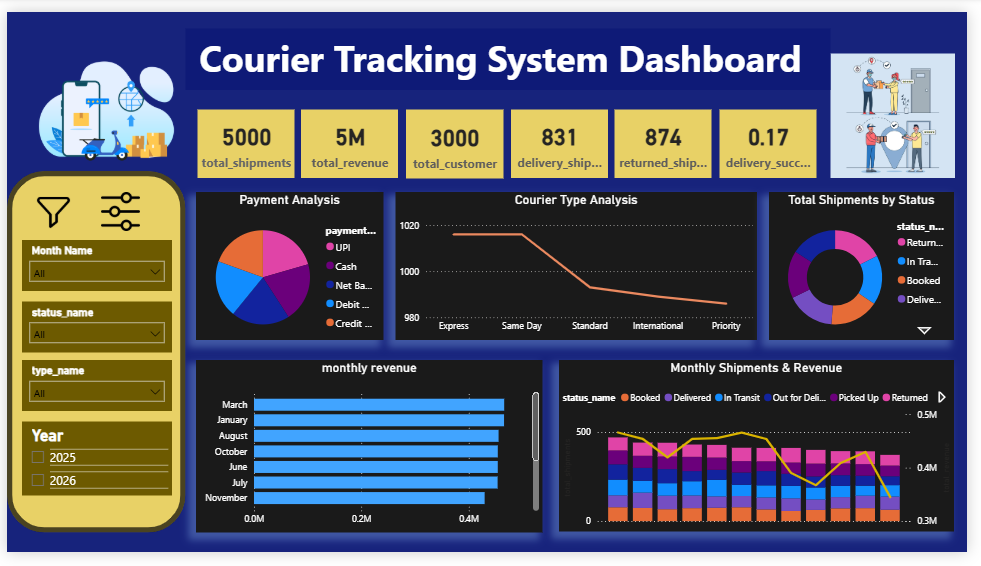

What the dashboard file says about the page in this screenshot:
{"tool":"powerbi","page":{"name":"dashboard","canvas":[1280,720],"ordinal":0},"visuals":[{"type":"card","fields":{"Values":["measure_table.total_revenue"]},"box":[392.5,129.6,129.6,91.1],"z":0},{"type":"card","fields":{"Values":["measure_table.total_customer"]},"box":[531.7,130,130,92],"z":1000},{"type":"card","fields":{"Values":["measure_table.delivery_shipments"]},"box":[671.4,130,129.6,91.1],"z":2000},{"type":"card","fields":{"Values":["measure_table.returned_shipments"]},"box":[810.7,130,129.6,91.1],"z":3000},{"type":"card","fields":{"Values":["measure_table.delivery_success%"]},"box":[950,130,129.6,91.1],"z":4000},{"type":"clusteredBarChart","title":"monthly revenue","fields":{"Category":["Calendar.Month Name"],"Y":["measure_table.total_revenue"]},"box":[252,464,462,230],"z":5000},{"type":"lineChart","title":"Courier Type Analysis","fields":{"Category":["courier_type.type_name"],"Y":["measure_table.total_shipments"]},"box":[518.5,240.2,482,197.2],"z":6000},{"type":"donutChart","title":"Total Shipments by Status","fields":{"Category":["shipment_status.status_name"],"Y":["measure_table.total_shipments"]},"box":[1016.4,240.2,246.5,197.2],"z":7000},{"type":"pieChart","title":"Payment Analysis","fields":{"Category":["payment.payment_mode"],"Y":["measure_table.total_payment"]},"box":[252.9,240.2,249.7,197.2],"z":8000},{"type":"lineStackedColumnComboChart","title":"Monthly Shipments & Revenue","fields":{"Category":["Calendar.Month Name"],"Y":["measure_table.total_shipments"],"Series":["shipment_status.status_name"],"Y2":["measure_table.total_revenue"]},"box":[736.5,464.5,526.6,228.9],"z":9000},{"type":"shape","box":[0,212,238,482],"z":10000},{"type":"card","fields":{"Values":["measure_table.total_shipments"]},"box":[253.2,129.6,129.6,91.1],"z":11000},{"type":"slicer","fields":{"Values":["Calendar.Year"]},"box":[20,546,200,98],"z":12000},{"type":"slicer","fields":{"Values":["Calendar.Month Name"]},"box":[20,304,200,68],"z":13000},{"type":"slicer","fields":{"Values":["shipment_status.status_name"]},"box":[20,386,200,68],"z":14000},{"type":"slicer","fields":{"Values":["courier_type.type_name"]},"box":[20,464,200,68],"z":15000},{"type":"image","box":[0,0,280,240],"z":16000},{"type":"image","box":[62,240,178,52],"z":17000},{"type":"image","box":[2,240,120,52],"z":18000},{"type":"image","box":[1097.7,36.5,166.1,204.6],"z":19000},{"type":"textbox","box":[238,22,860,82],"z":20000}]}

Visuals, with their boxes in screenshot pixels (x1, y1, x2, y2), scaled from the page's 1280x720 canvas onto the 981x566 screenshot:
card - measure_table.total_revenue: {"x1": 301, "y1": 102, "x2": 400, "y2": 173}
card - measure_table.total_customer: {"x1": 407, "y1": 102, "x2": 507, "y2": 175}
card - measure_table.delivery_shipments: {"x1": 515, "y1": 102, "x2": 614, "y2": 174}
card - measure_table.returned_shipments: {"x1": 621, "y1": 102, "x2": 721, "y2": 174}
card - measure_table.delivery_success%: {"x1": 728, "y1": 102, "x2": 827, "y2": 174}
"monthly revenue" clusteredBarChart: {"x1": 193, "y1": 365, "x2": 547, "y2": 546}
"Courier Type Analysis" lineChart: {"x1": 397, "y1": 189, "x2": 767, "y2": 344}
"Total Shipments by Status" donutChart: {"x1": 779, "y1": 189, "x2": 968, "y2": 344}
"Payment Analysis" pieChart: {"x1": 194, "y1": 189, "x2": 385, "y2": 344}
"Monthly Shipments & Revenue" lineStackedColumnComboChart: {"x1": 564, "y1": 365, "x2": 968, "y2": 545}
shape: {"x1": 0, "y1": 167, "x2": 182, "y2": 546}
card - measure_table.total_shipments: {"x1": 194, "y1": 102, "x2": 293, "y2": 173}
slicer - Calendar.Year: {"x1": 15, "y1": 429, "x2": 169, "y2": 506}
slicer - Calendar.Month Name: {"x1": 15, "y1": 239, "x2": 169, "y2": 292}
slicer - shipment_status.status_name: {"x1": 15, "y1": 303, "x2": 169, "y2": 357}
slicer - courier_type.type_name: {"x1": 15, "y1": 365, "x2": 169, "y2": 418}
image: {"x1": 0, "y1": 0, "x2": 215, "y2": 189}
image: {"x1": 48, "y1": 189, "x2": 184, "y2": 230}
image: {"x1": 2, "y1": 189, "x2": 94, "y2": 230}
image: {"x1": 841, "y1": 29, "x2": 969, "y2": 190}
textbox: {"x1": 182, "y1": 17, "x2": 842, "y2": 82}
